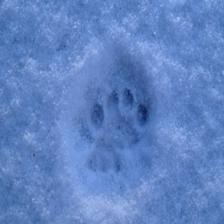cat: (102, 85, 155, 152)
